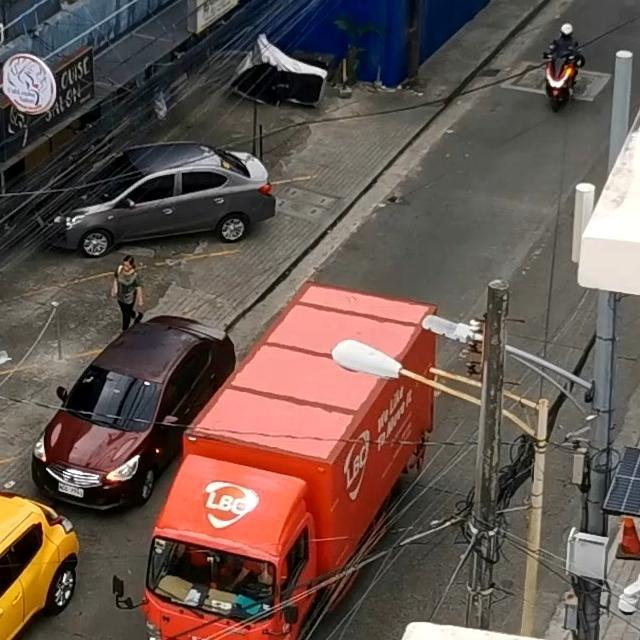Motorcycle: (544, 22, 580, 81)
